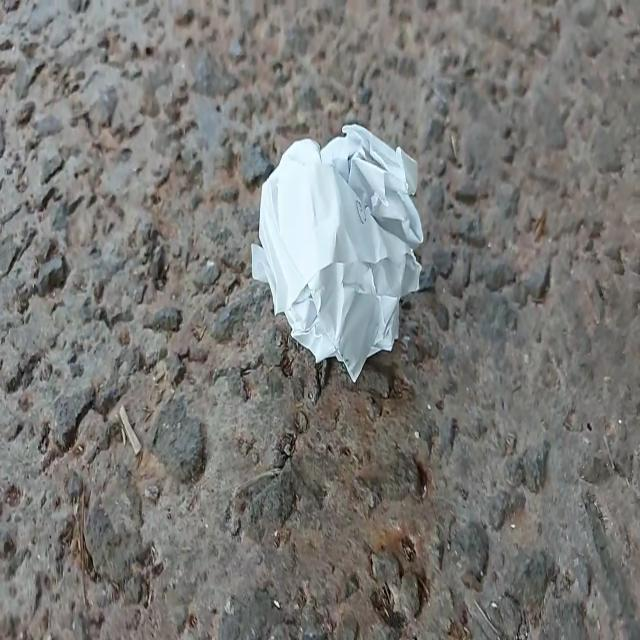Paper: (236, 106, 439, 399)
